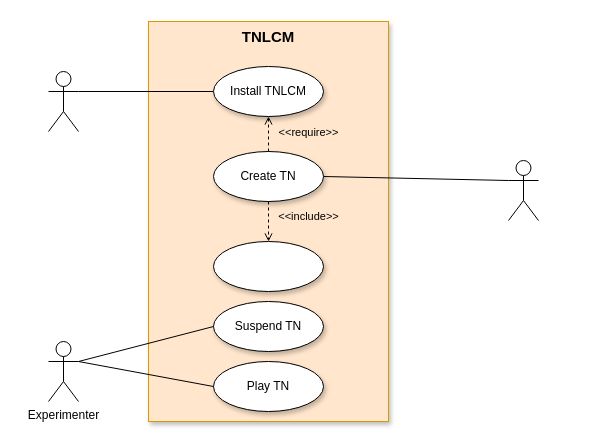
Image size: 592x446. Some labels were removed from this diagram. The shapes that lost their labels are listed below. From the top down, each one's centre as x and y in pixels, then its label:
(63,101): Platform operator
(523,190): TN owner/Operator
(269,267): Validate TN
